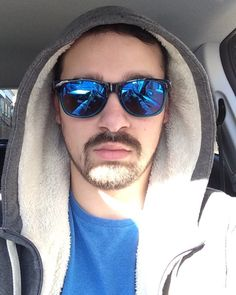sunglasses: (48, 79, 164, 115)
